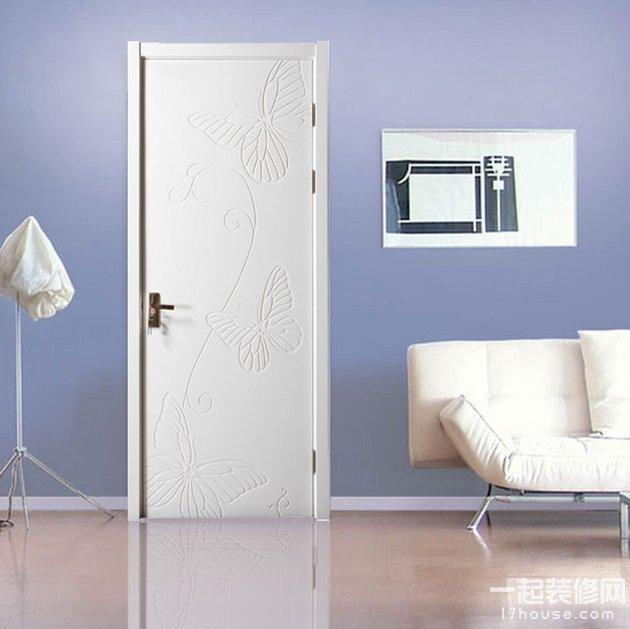door: (141, 55, 325, 517)
